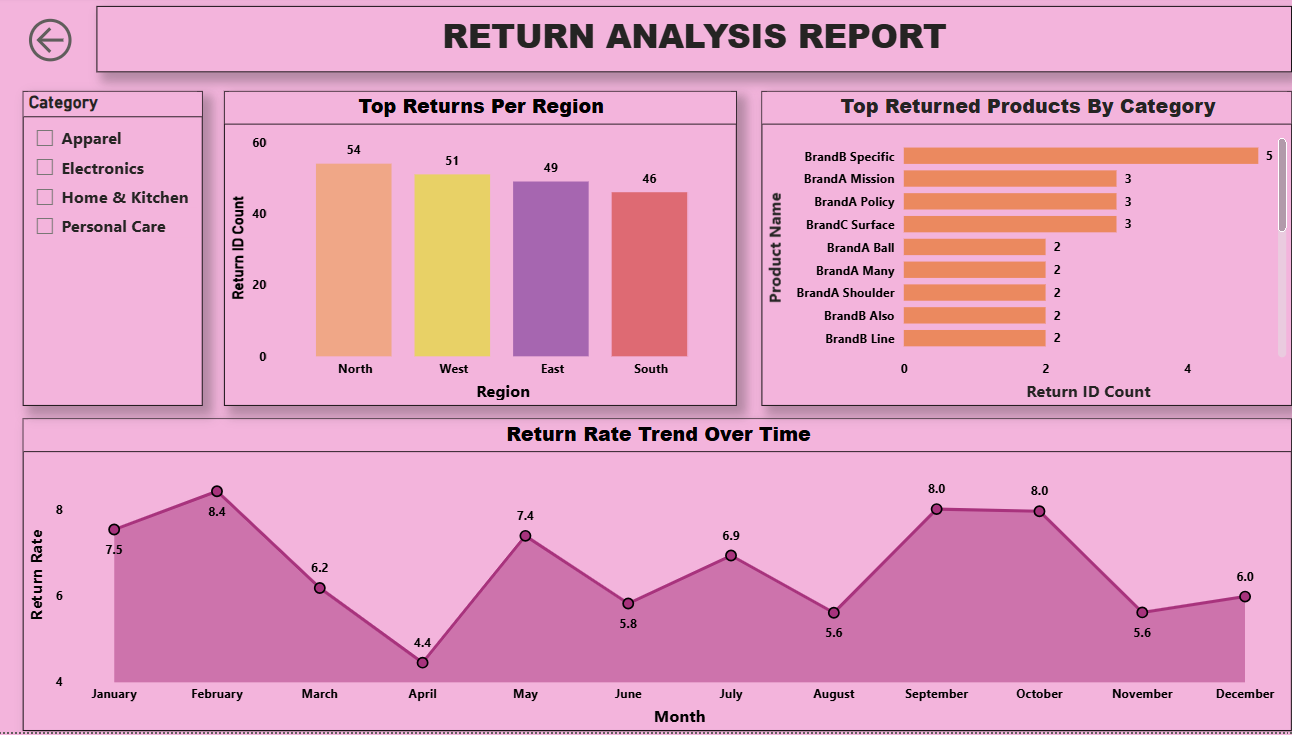

The dashboard page shown, as its layout file describes it:
{"tool":"powerbi","page":{"name":"Page 5","canvas":[1280,720],"ordinal":4},"visuals":[{"type":"lineChart","title":"Return Rate Trend Over Time","fields":{"Y":["returns_cleaned.Return Rate"],"Category":["sales_cleaned.order_date.Variation.Date Hierarchy.Month"]},"box":[28.1,413.3,1242.4,305.7],"z":0},{"type":"clusteredBarChart","title":"Top Returned Products By Category","fields":{"Category":["products_cleaned.product_name"],"Y":["CountNonNull(returns_cleaned.return_id)"]},"box":[750.8,92.9,519.7,308.2],"z":1000},{"type":"clusteredColumnChart","title":"Top Returns Per Region","fields":{"Y":["CountNonNull(returns_cleaned.return_id)"],"Category":["customers_cleaned.region"]},"box":[225,92.9,501.4,308.2],"z":2000},{"type":"slicer","title":"Category","fields":{"Values":["products_cleaned.category"]},"box":[28.1,92.9,176.1,308.2],"z":3000},{"type":"textbox","box":[100.3,9.8,1170.3,64.8],"z":4000},{"type":"actionButton","box":[28.1,12.2,53.8,62.4],"z":5000}]}

Visuals, with their boxes in screenshot pixels (x1, y1, x2, y2), scaled from the page's 1280x720 canvas onto the 1292x735 screenshot:
"Return Rate Trend Over Time" lineChart: bbox=[28, 422, 1282, 734]
"Top Returned Products By Category" clusteredBarChart: bbox=[758, 95, 1282, 409]
"Top Returns Per Region" clusteredColumnChart: bbox=[227, 95, 733, 409]
"Category" slicer: bbox=[28, 95, 206, 409]
textbox: bbox=[101, 10, 1283, 76]
actionButton: bbox=[28, 12, 83, 76]
